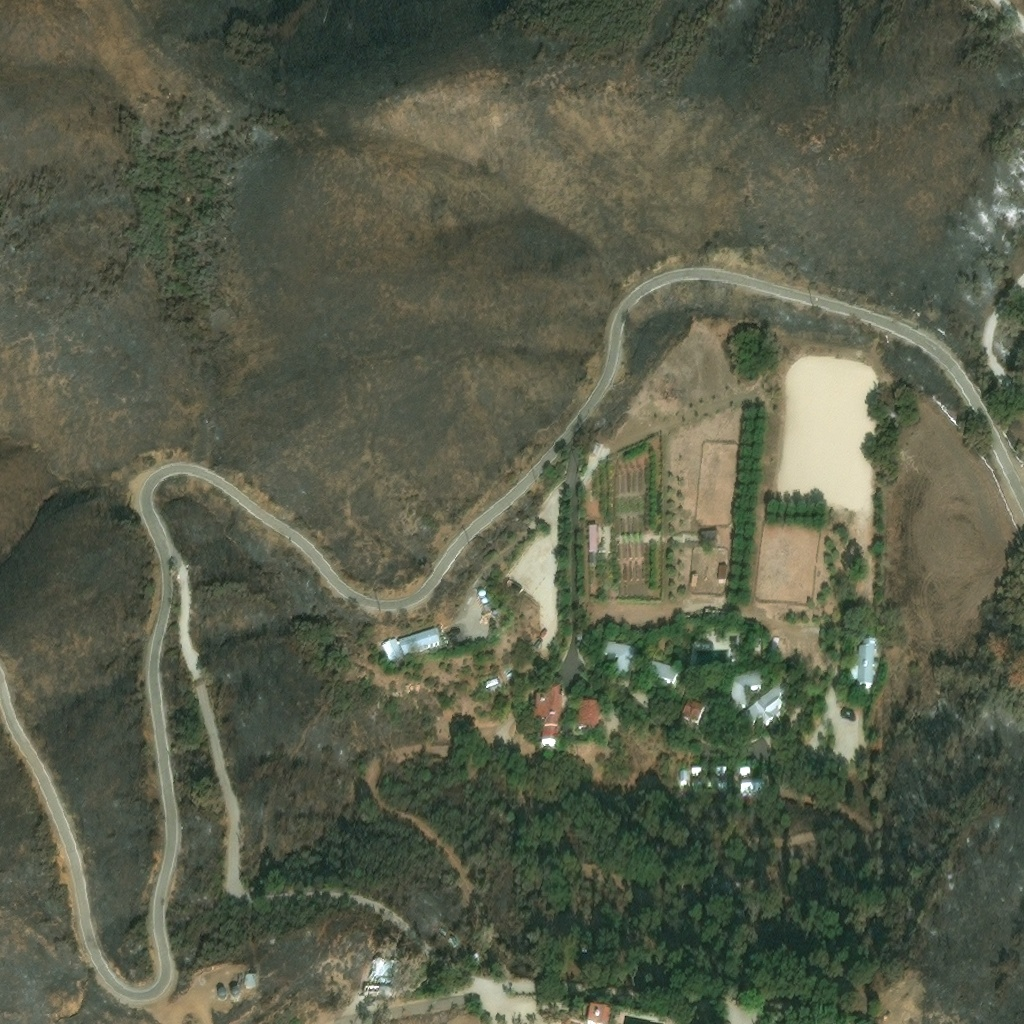0 no-damage: (744, 684, 798, 739), (380, 631, 440, 666), (530, 683, 562, 748), (722, 670, 762, 714), (598, 643, 636, 674), (857, 640, 875, 683), (645, 662, 678, 685), (573, 702, 598, 732), (680, 701, 706, 728), (587, 526, 599, 566), (586, 1005, 609, 1023), (741, 778, 769, 791), (243, 975, 259, 990), (700, 532, 717, 546), (738, 763, 753, 774), (717, 568, 725, 584), (689, 575, 697, 591), (692, 778, 710, 784), (716, 779, 729, 787), (716, 764, 727, 773), (217, 990, 226, 1000), (691, 766, 702, 772), (680, 770, 686, 780), (231, 989, 239, 996)
3 destroyed: (433, 920, 490, 968), (362, 957, 402, 996)
